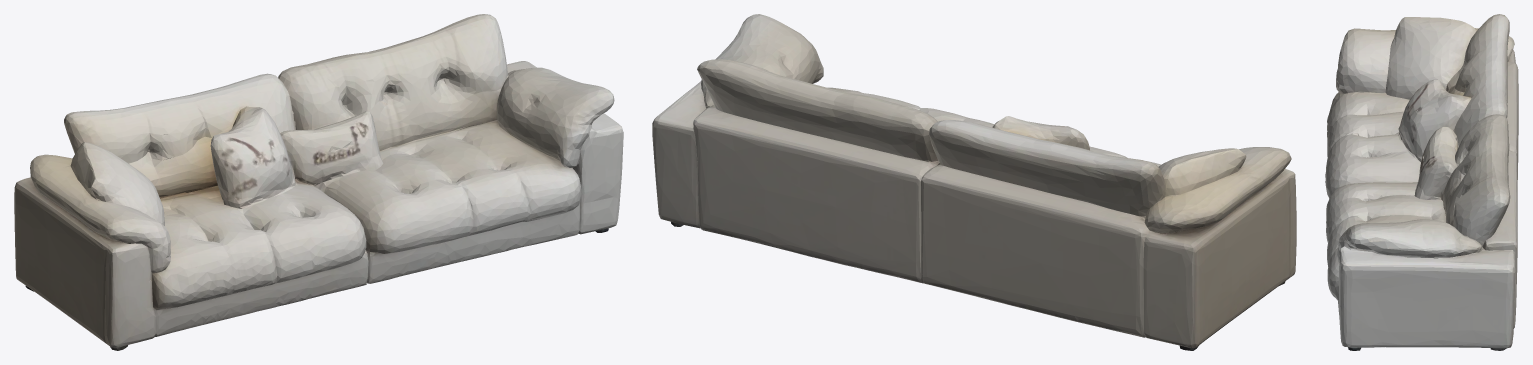
File: ast_7b10d7d4bdb6.glb
The picture shows the model from 3 angles, left to right: view 1: azimuth 30°, elevation 25°; view 2: azimuth 150°, elevation 25°; view 3: azimuth 270°, elevation 25°; orthographic projection. The views are drawn at different scales.
Parts seen in each view (by area): view 1: geometry_0; view 2: geometry_0; view 3: geometry_0.
Boxes of the visible parts, box(x1,y1,x2,y2) form: geometry_0: box(14, 14, 623, 350); geometry_0: box(652, 14, 1296, 350); geometry_0: box(1325, 14, 1518, 350).
Size of the model in its own units: 0.9997 by 0.3045 by 0.3702.
Materials: 1 (1 with a texture image).
